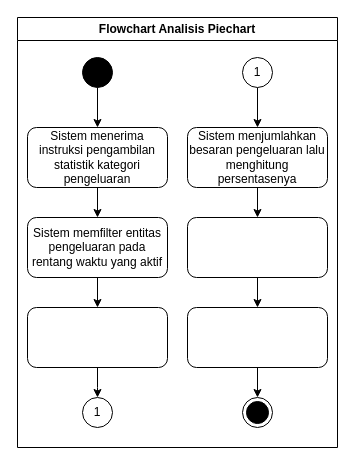
The diagram is 355 pixels wide and 465 high, and some of its shapes have lost their labels. Here are the shapes that lost their labels. From the top down, the centre of each, then its label:
the point at 257,247: Sistem mengalokasikan sudut irisan pie sebanding dengan persentase
the point at 97,337: Sistem mengelompokkan transaksi (Group By) berdasarkan id kategori
the point at 257,337: Aplikasi merender bentuk Pie Chart beserta label legendanya
